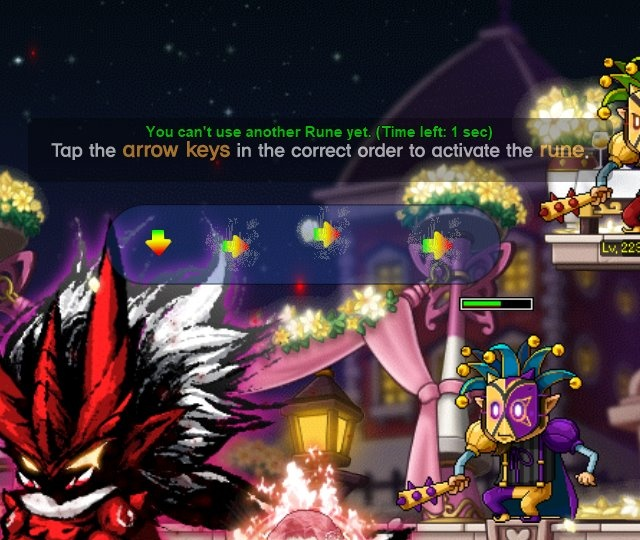rune_box: (99, 193, 507, 294)
